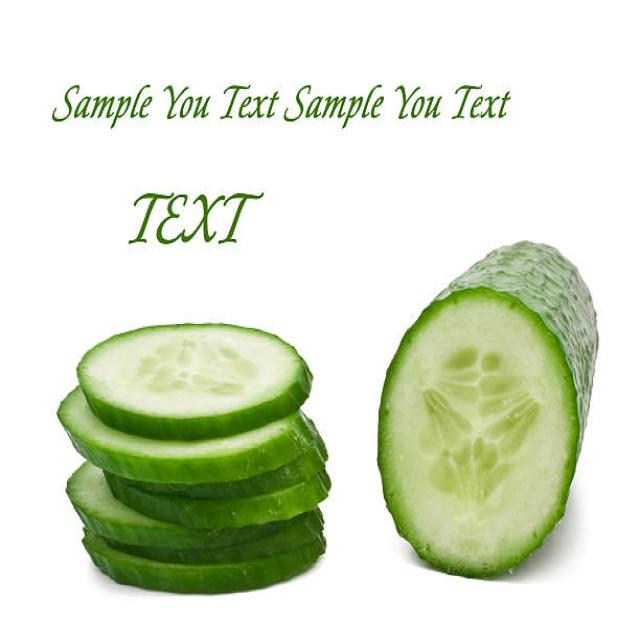cucumber: (380, 239, 597, 573)
